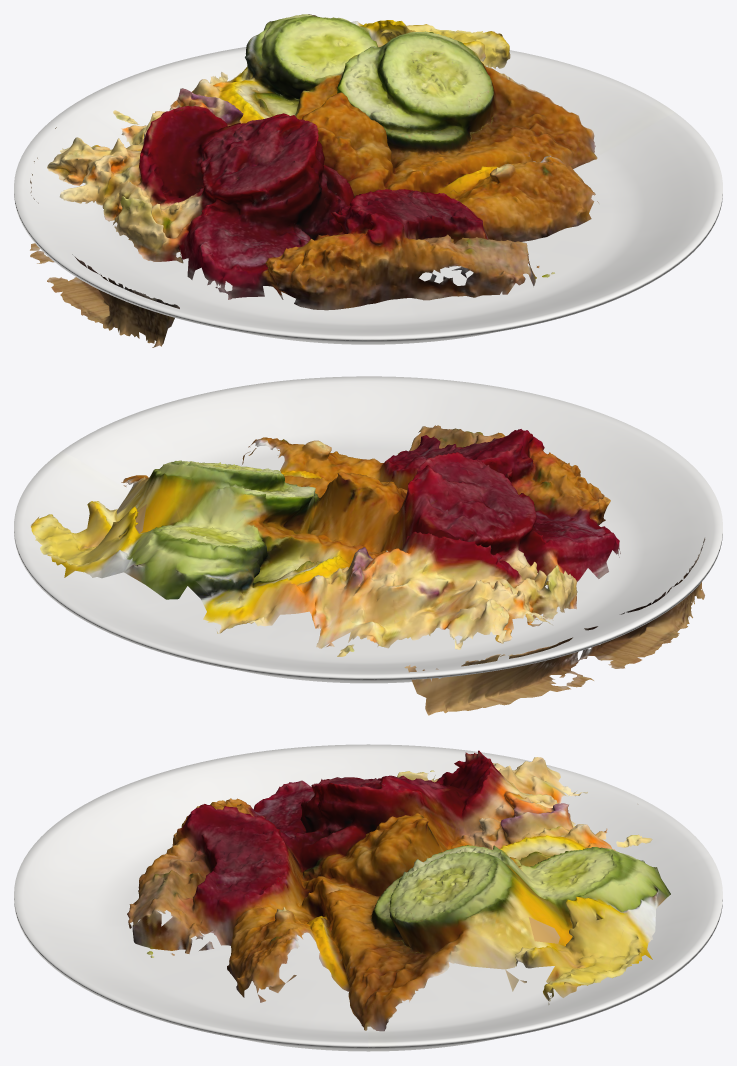
The model's file is schnitzel-plate.glb.
The picture shows the model from 3 angles, top to bottom: view 1: azimuth 30°, elevation 25°; view 2: azimuth 150°, elevation 25°; view 3: azimuth 270°, elevation 25°; orthographic projection.
Visible parts, largest first — view 1: material, ceramic; view 2: material, ceramic; view 3: material, ceramic.
Part boxes in pixels (x1=…): material: x1=30, y1=14, x2=598, y2=347; ceramic: x1=14, y1=47, x2=722, y2=344; material: x1=31, y1=425, x2=705, y2=715; ceramic: x1=14, y1=376, x2=722, y2=683; material: x1=127, y1=750, x2=670, y2=1031; ceramic: x1=14, y1=744, x2=722, y2=1051.
Size of the model in its own units: 0.265 by 0.055 by 0.265.
Materials: 2 (2 with a texture image).
